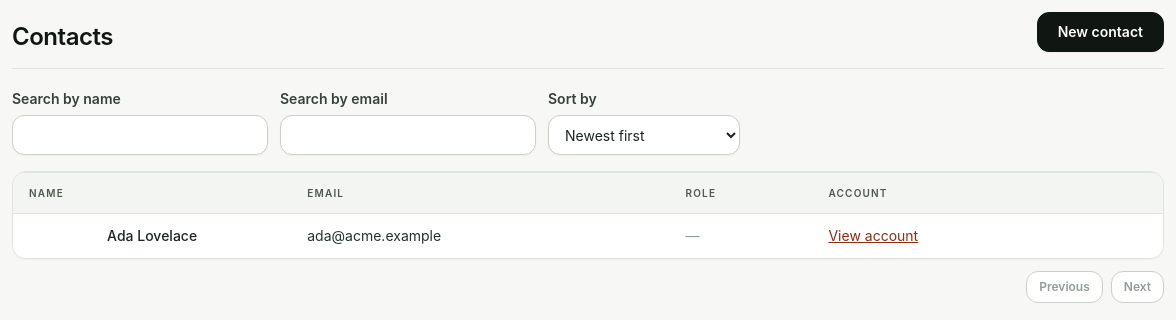
ContactsListPage › lists contacts and opens one on activation
The image size is (1176, 320).
Click the button "Ada Lovelace": (152, 236) [107,226,197,246]
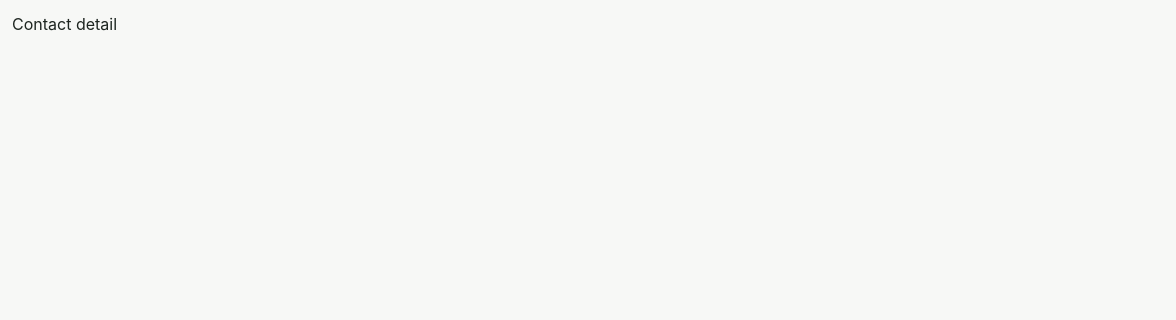
Now the text "Contact detail" is shown, box [12,14,117,34]
